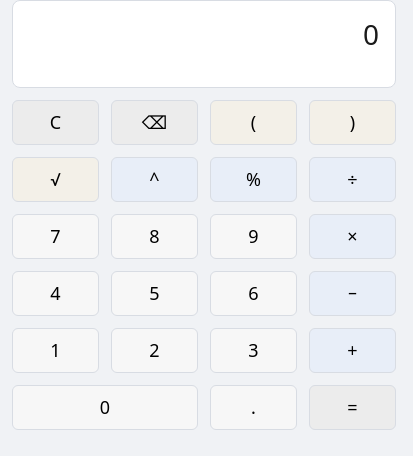
Scenario: Calculator › shows a backend error with role="alert"
This screenshot has width=413, height=456.
Click the button "3". click: (254, 350)
box: [210, 328, 297, 373]
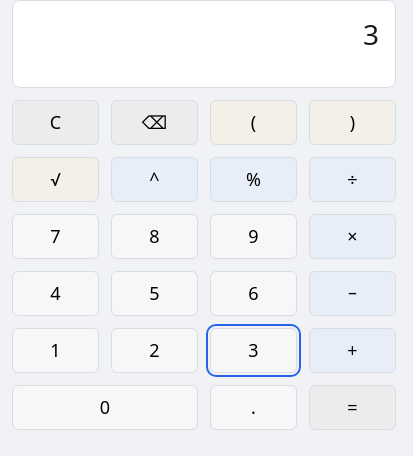
Click the button named "evaluate expression". click: (352, 408)
box: [309, 385, 396, 430]
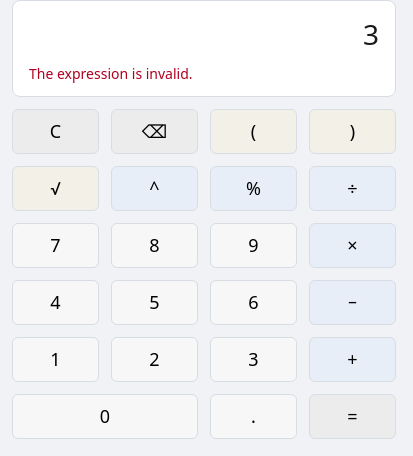
Expected: the message reads "The expression is invalid.", [29, 64, 193, 83]
